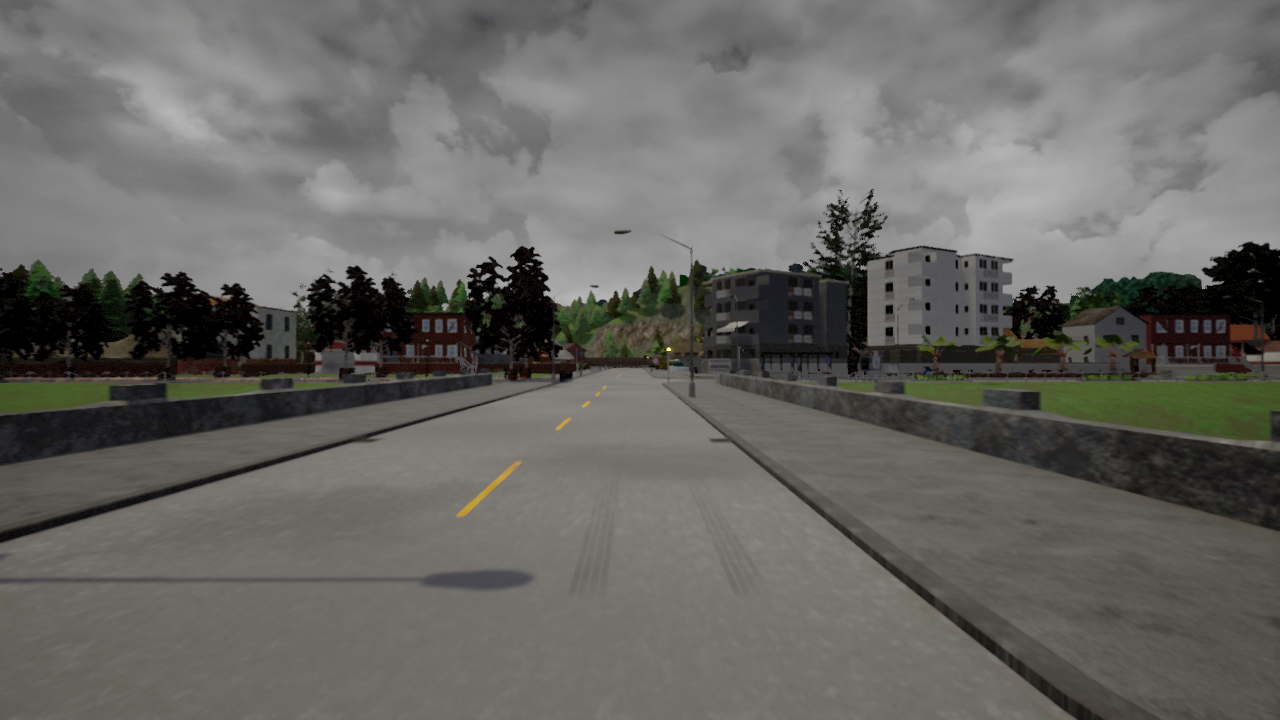yellow: (665, 343, 671, 357)
